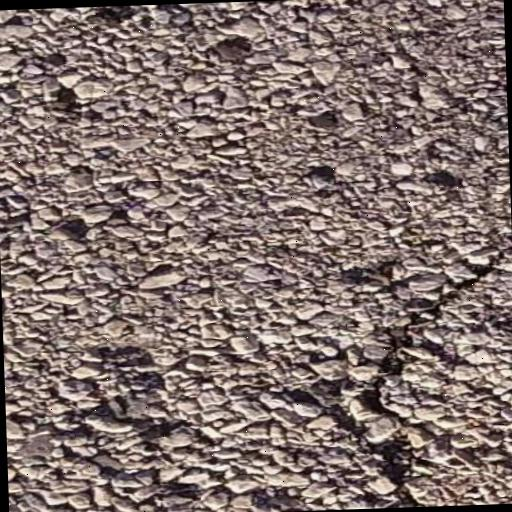spalling: (354, 232, 507, 503)
